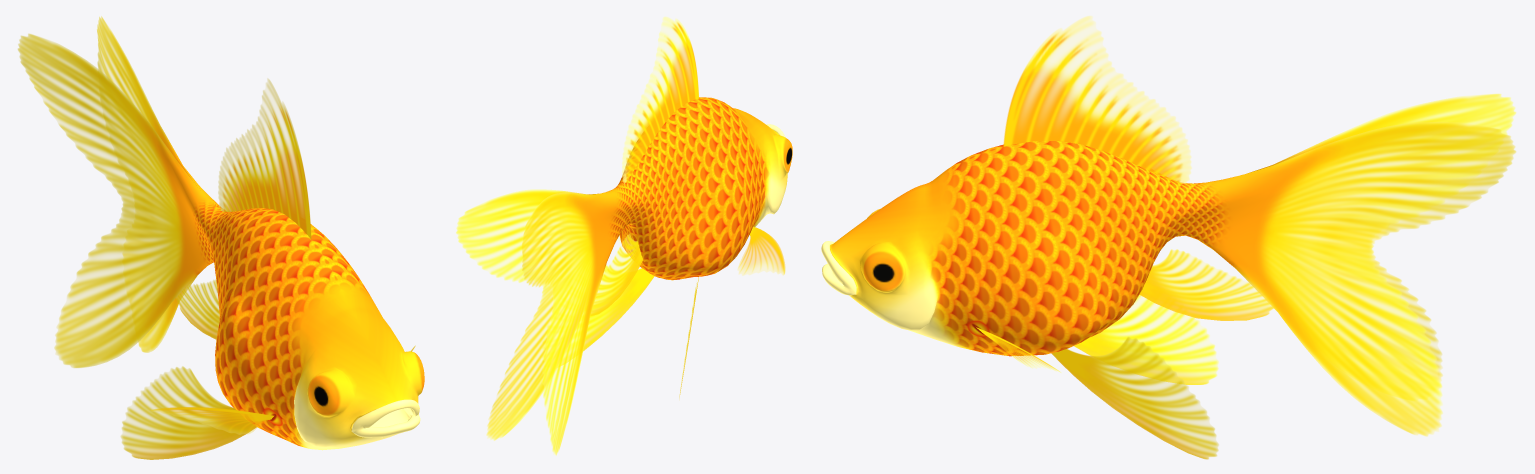
File: fish.glb
3 views of the same model, side by side, from view 1: azimuth 30°, elevation 25°; view 2: azimuth 150°, elevation 25°; view 3: azimuth 270°, elevation 25° (orthographic). The views are drawn at different scales.
Visible parts, largest first — view 1: goldfish; view 2: goldfish; view 3: goldfish.
Part boxes in pixels (left/top/right/bottom): goldfish: left=18, top=16, right=424, bottom=459; goldfish: left=456, top=16, right=792, bottom=455; goldfish: left=821, top=16, right=1515, bottom=459.
Size of the model in its own units: 115 by 167 by 260.
Materials: 1 (1 with a texture image).
